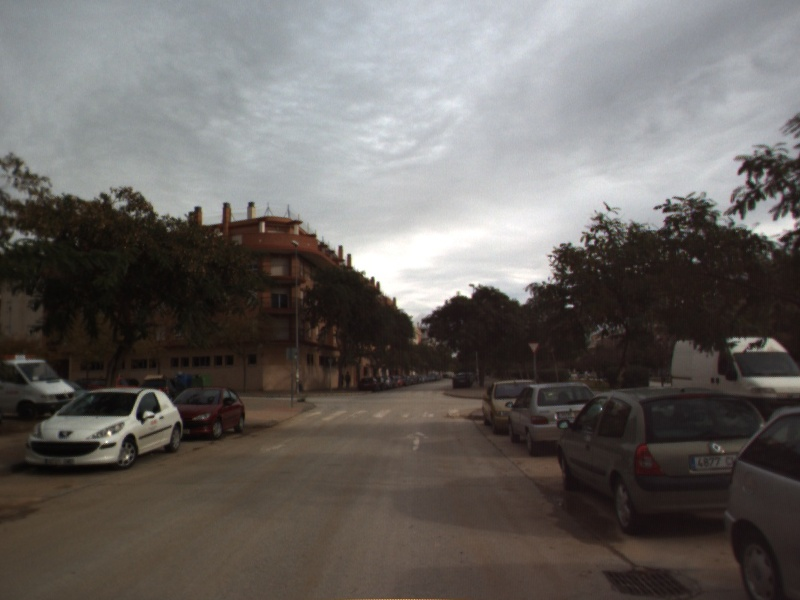STRAIGHT: (401, 429, 432, 453)
